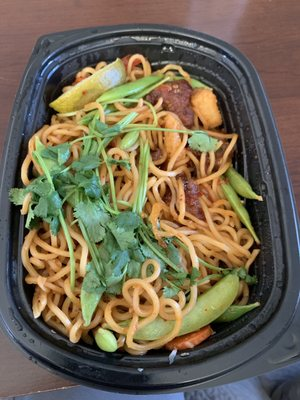sushi: (2, 18, 291, 380)
